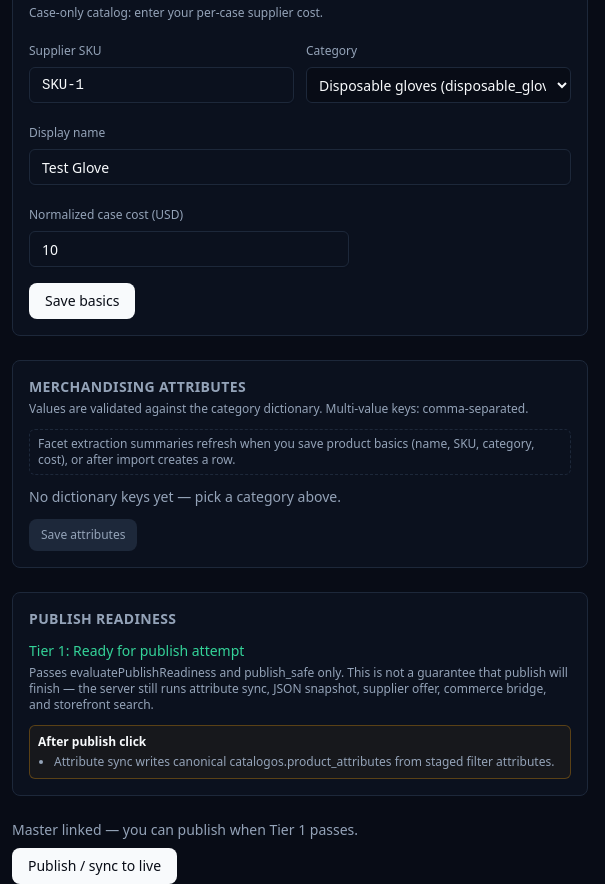
Test case: QuickAddPageClient › publish failure shows PublishFailureBanner, Retry publish label, and refetches staging
The width and height of the screenshot is (605, 884).
(page scrolled)
Click the button "Publish / sync to live": (95, 866) x1=12 y1=848 x2=177 y2=883
(page scrolled)
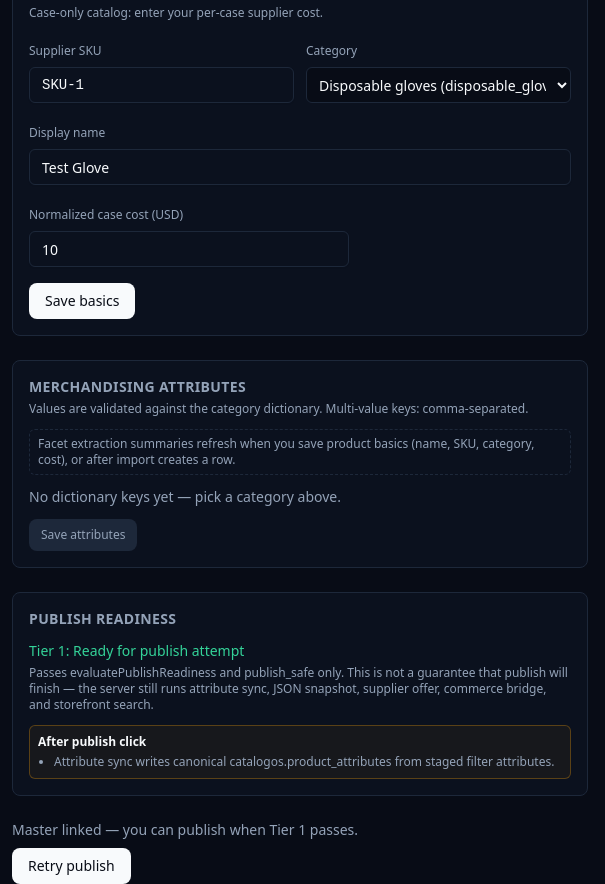
expect the button "Retry publish" is shown: met, box x1=12 y1=848 x2=131 y2=883
